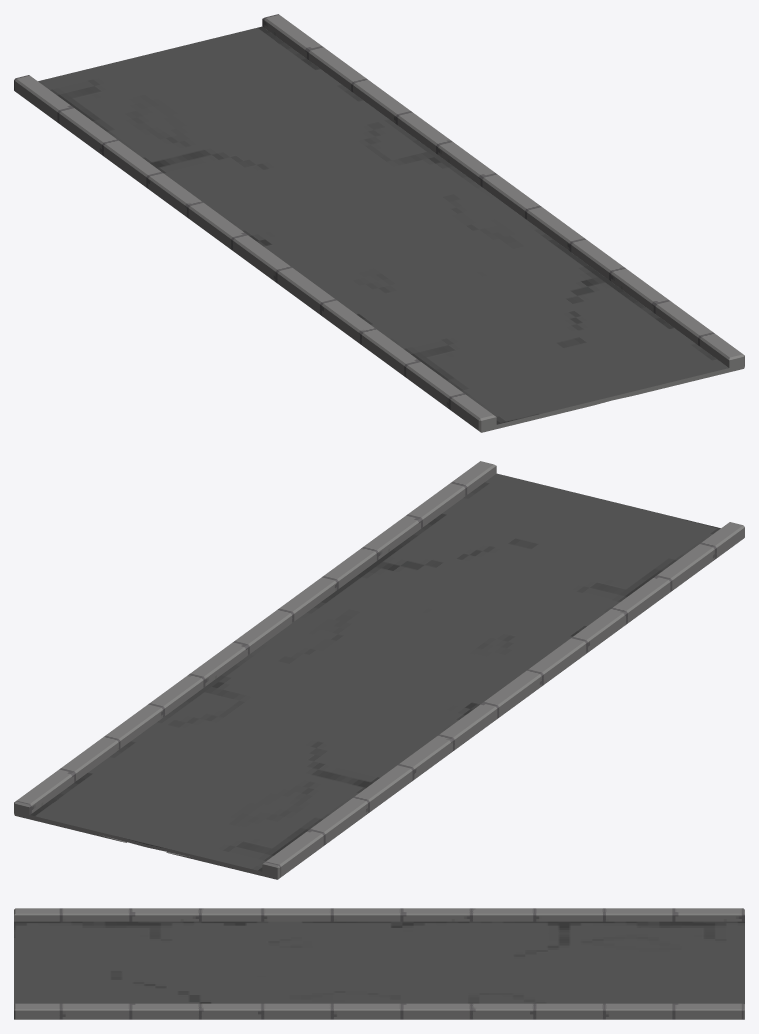
File: doroga.obj
3 views of the same model, one above another, from view 1: azimuth 30°, elevation 25°; view 2: azimuth 150°, elevation 25°; view 3: azimuth 270°, elevation 25° (orthographic). The views are drawn at different scales.
Parts seen in each view (by area): view 1: Cube; view 2: Cube; view 3: Cube.
Part boxes in pixels (x1,y1,x2,y2): Cube: (14,14,744,432); Cube: (14,461,744,879); Cube: (14,908,744,1019).
Size of the model in its own units: 10.36 by 0.5119 by 31.45.
Materials: 1 (1 with a texture image).
